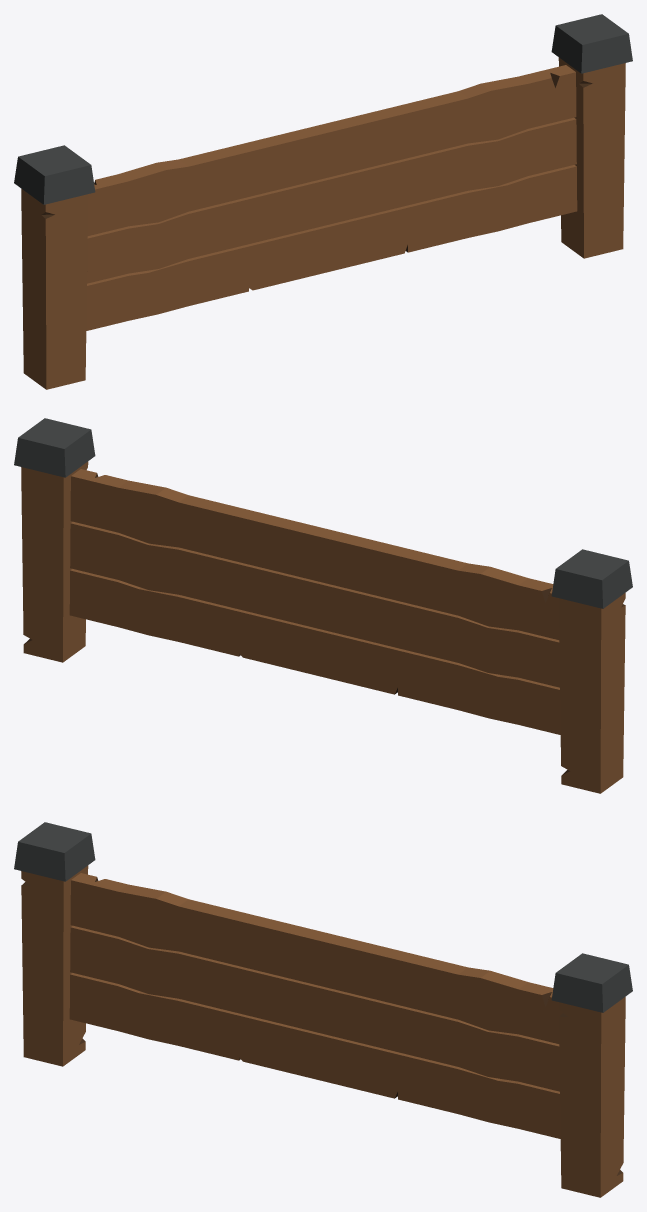
Rendered from Fence_4_Light_Brown.fbx.
The picture shows the model from 3 angles, top to bottom: view 1: azimuth 30°, elevation 25°; view 2: azimuth 150°, elevation 25°; view 3: azimuth 330°, elevation 25°; orthographic projection.
Parts seen in each view (by area): view 1: Fence_1_Light_Brown; view 2: Fence_1_Light_Brown; view 3: Fence_1_Light_Brown.
Part boxes in pixels (x1,y1,x2,y2): Fence_1_Light_Brown: (14,14,632,389); Fence_1_Light_Brown: (14,418,632,793); Fence_1_Light_Brown: (14,822,632,1197).
Size of the model in its own units: 274 by 96 by 24.
